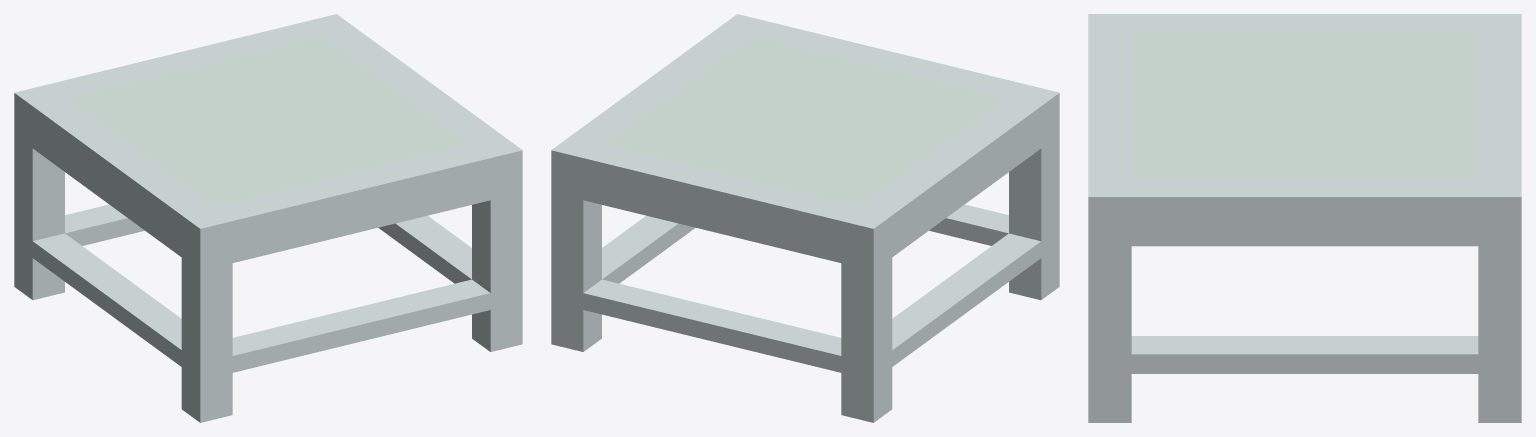
The model's file is tableCoffeeGlassSquare.glb.
The picture shows the model from 3 angles, left to right: view 1: azimuth 30°, elevation 25°; view 2: azimuth 150°, elevation 25°; view 3: azimuth 270°, elevation 25°; orthographic projection. The views are drawn at different scales.
Visible parts, largest first — view 1: tableCoffeeGlassSquare(Clone); view 2: tableCoffeeGlassSquare(Clone); view 3: tableCoffeeGlassSquare(Clone).
Boxes of the visible parts, x1,y1,x2,y2 form: tableCoffeeGlassSquare(Clone): (14,14,522,422); tableCoffeeGlassSquare(Clone): (551,14,1059,422); tableCoffeeGlassSquare(Clone): (1088,14,1521,422).
Size of the model in its own units: 0.812 by 0.4669 by 0.812.
2 materials, 2 textured.
